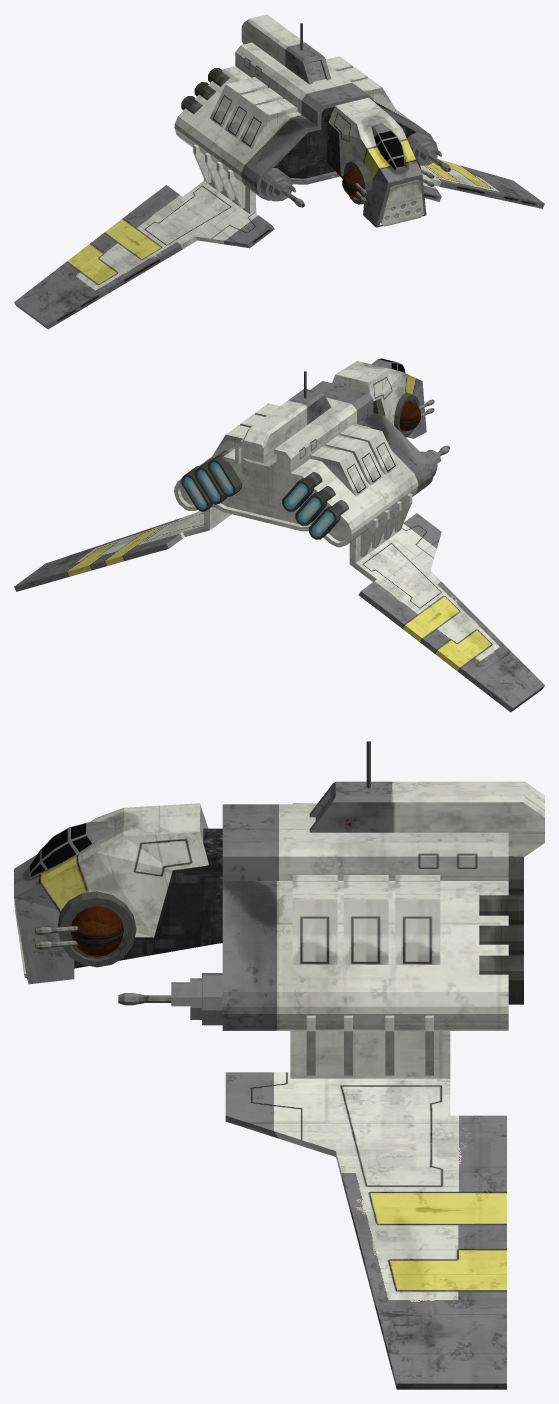
File: REP_Nu_Shuttle.obj
3 renders of one model, top to bottom at view 1: azimuth 30°, elevation 25°; view 2: azimuth 150°, elevation 25°; view 3: azimuth 270°, elevation 25°, orthographic. The views are drawn at different scales.
Parts seen in each view (by area): view 1: Hull; view 2: Hull, Engineglow; view 3: Hull.
Part boxes in pixels (x1,y1,x2,y2): Hull: [14, 14, 544, 329]; Hull: [14, 358, 544, 712]; Engineglow: [184, 462, 334, 536]; Hull: [14, 741, 544, 1389].
Bounding box in the file's own units: 267 × 129 × 142.
